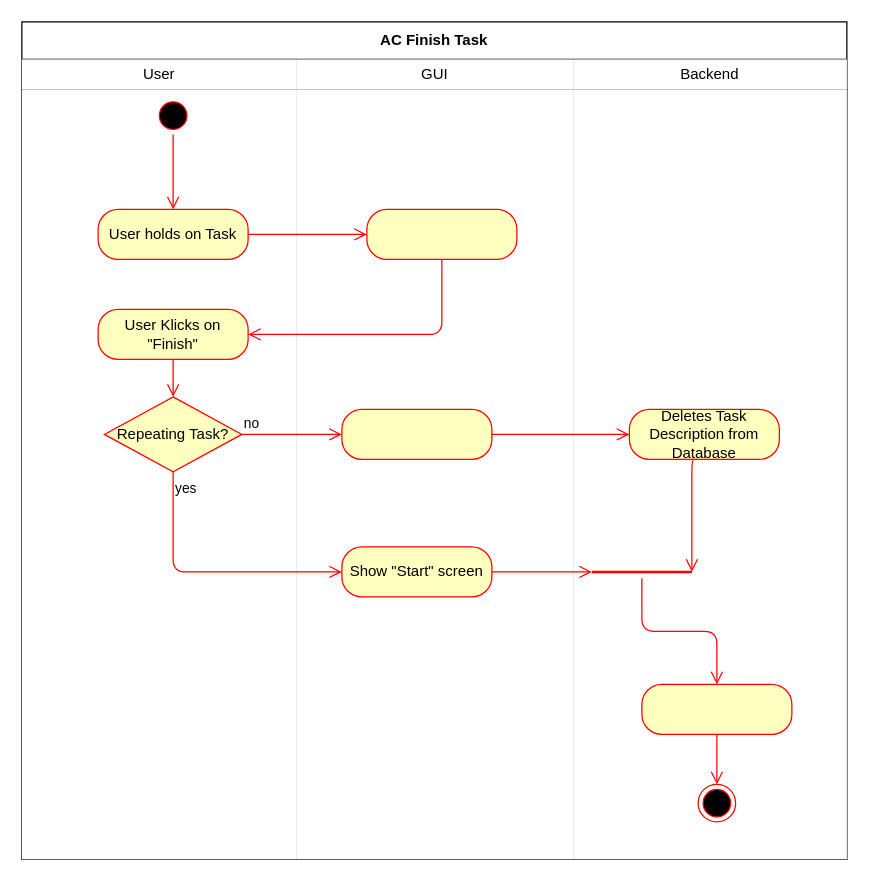
Some shapes in this 869 by 881 pixel diagram are drawn without their labels. Each missing label, with the centre of its shape:
Adds the amount of "Coins" to the rest: the point at 716,708
Drop down menu opens: the point at 441,233
Show "Tasks" screen without this "Task": the point at 416,433
